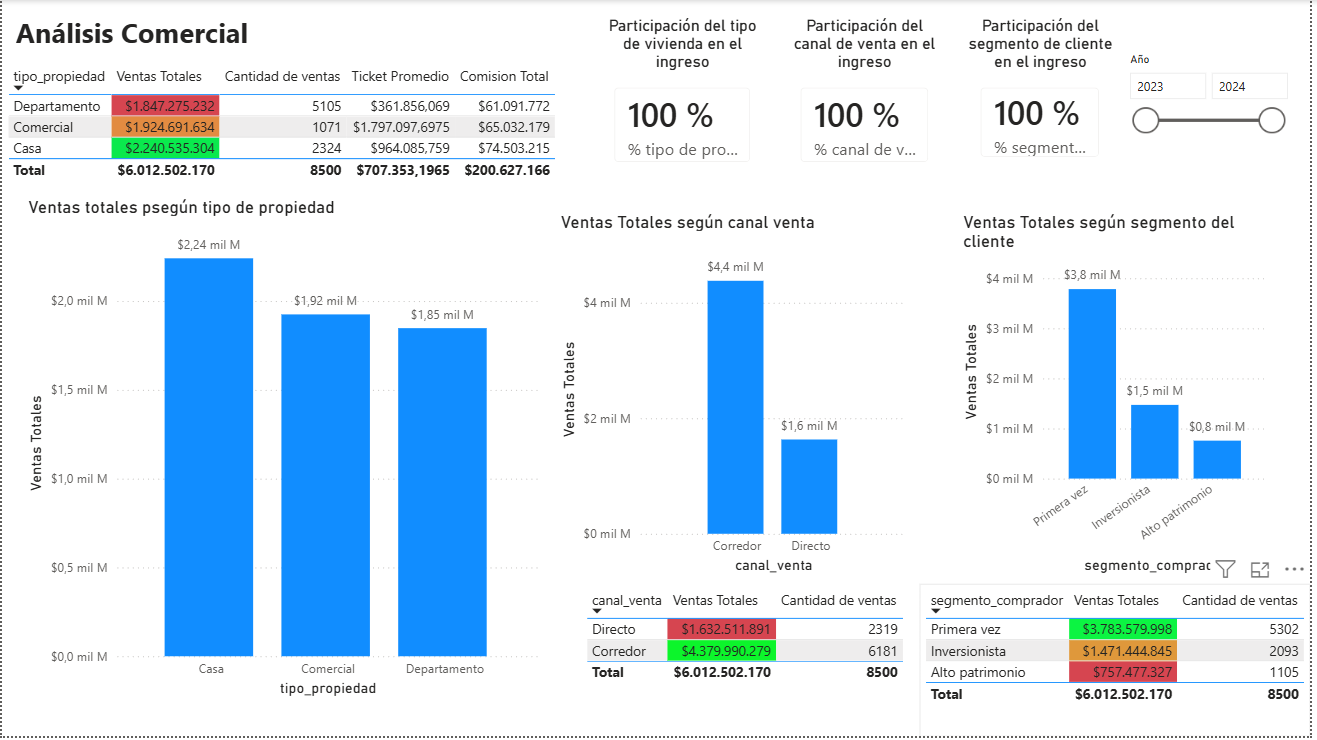

What the dashboard file says about the page in this screenshot:
{"tool":"powerbi","page":{"name":"Análisis comercial","canvas":[1280,720],"ordinal":1},"visuals":[{"type":"columnChart","title":"Ventas Totales según canal venta","fields":{"Y":["hecho_ventas_propiedades (1).Ventas Totales"],"Category":["hecho_ventas_propiedades (1).canal_venta"]},"box":[542,207.2,348.5,359.5],"z":0},{"type":"columnChart","title":"Ventas totales psegún tipo de propiedad","fields":{"Y":["hecho_ventas_propiedades (1).Ventas Totales"],"Category":["dim_propiedades (1).tipo_propiedad"]},"box":[20.6,192.1,509.1,494],"z":1000},{"type":"columnChart","title":"Ventas Totales según segmento del cliente","fields":{"Y":["hecho_ventas_propiedades (1).Ventas Totales"],"Category":["dim_clientes (1).segmento_comprador"]},"box":[935.9,207.2,308.7,359.5],"z":2000},{"type":"tableEx","fields":{"Values":["hecho_ventas_propiedades (1).tipo_propiedad","hecho_ventas_propiedades (1).Ventas Totales","hecho_ventas_propiedades (1).Cantidad de ventas","hecho_ventas_propiedades (1).Ticket Promedio","hecho_ventas_propiedades (1).Comision Total"]},"box":[0,59,551.6,127.6],"z":3000},{"type":"tableEx","fields":{"Values":["dim_clientes (1).segmento_comprador","hecho_ventas_propiedades (1).Ventas Totales","hecho_ventas_propiedades (1).Cantidad de ventas"]},"box":[897.4,570.8,382.8,149.6],"z":4000},{"type":"tableEx","fields":{"Values":["hecho_ventas_propiedades (1).canal_venta","hecho_ventas_propiedades (1).Ventas Totales","hecho_ventas_propiedades (1).Cantidad de ventas"]},"box":[566.7,570.8,323.8,115.3],"z":5000},{"type":"slicer","fields":{"Values":["Dim_Fecha.Año"]},"box":[1090.9,46.7,172.9,100.2],"z":6000},{"type":"textbox","box":[8.6,8.6,286.1,50.1],"z":7000},{"type":"cardVisual","title":"Participación del tipo de vivienda en el ingreso","fields":{"Data":["hecho_ventas_propiedades (1).p. de ingresos por tipo de propiedad"]},"box":[581.8,16.5,167.4,160.5],"z":8000},{"type":"cardVisual","title":"Participación del canal de venta en el ingreso","fields":{"Data":["hecho_ventas_propiedades (1).p. de ingresos por canal de venta"]},"box":[764.3,16.5,159.2,160.5],"z":9000},{"type":"cardVisual","title":"Participación del segmento de cliente en el ingreso","fields":{"Data":["hecho_ventas_propiedades (1).p. de ingresos por segmento de cliente"]},"box":[940,16.5,150.9,155.1],"z":10000}]}

Visuals, with their boxes in screenshot pixels (x1, y1, x2, y2), scaled from the page's 1280x720 canvas onto the 1317x740 screenshot:
"Ventas Totales según canal venta" columnChart: <bbox>558, 213, 916, 582</bbox>
"Ventas totales psegún tipo de propiedad" columnChart: <bbox>21, 197, 545, 705</bbox>
"Ventas Totales según segmento del cliente" columnChart: <bbox>963, 213, 1281, 582</bbox>
tableEx - hecho_ventas_propiedades (1).tipo_propiedad x hecho_ventas_propiedades (1).Ventas Totales: <bbox>0, 61, 568, 192</bbox>
tableEx - dim_clientes (1).segmento_comprador x hecho_ventas_propiedades (1).Ventas Totales: <bbox>923, 587, 1316, 739</bbox>
tableEx - hecho_ventas_propiedades (1).canal_venta x hecho_ventas_propiedades (1).Ventas Totales: <bbox>583, 587, 916, 705</bbox>
slicer - Dim_Fecha.Año: <bbox>1122, 48, 1300, 151</bbox>
textbox: <bbox>9, 9, 303, 60</bbox>
"Participación del tipo de vivienda en el ingreso" cardVisual: <bbox>599, 17, 771, 182</bbox>
"Participación del canal de venta en el ingreso" cardVisual: <bbox>786, 17, 950, 182</bbox>
"Participación del segmento de cliente en el ingreso" cardVisual: <bbox>967, 17, 1122, 176</bbox>
